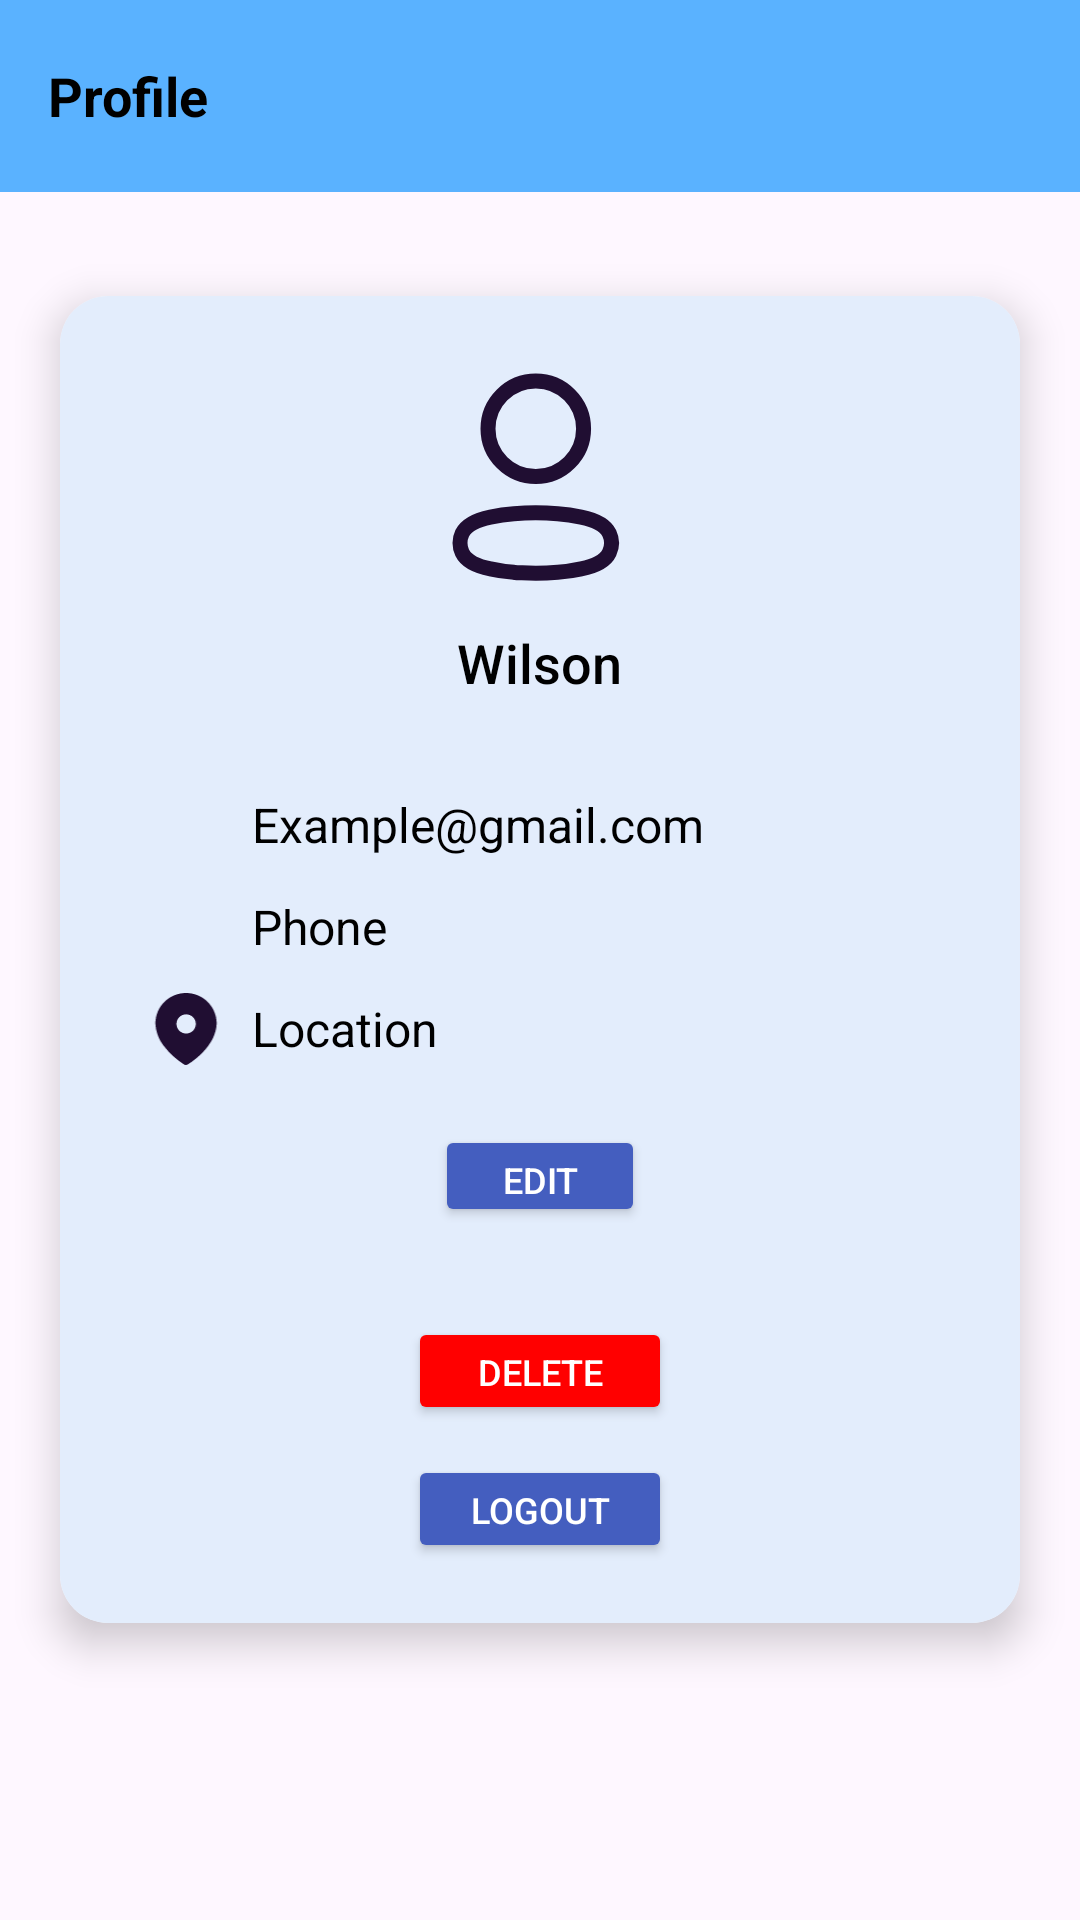

Screen size 1080px x 1920px. Icon name, then its center in pixels as (x,y):
Profile: (535,477)
